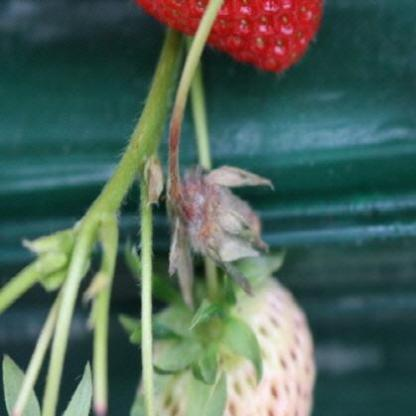Strawberry_Gray_Mold: (166, 159, 275, 307)
